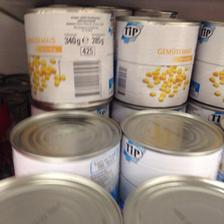Mais: (23, 5, 116, 108), (111, 14, 200, 106)
